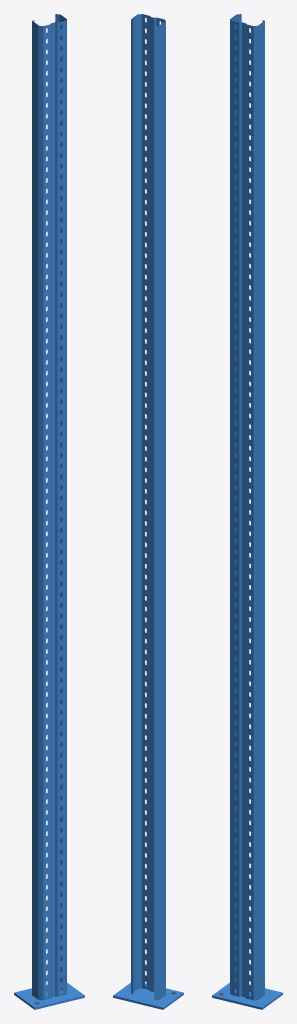
The model's file is shelves-post.glb.
3 renders of one model, left to right at view 1: azimuth 30°, elevation 25°; view 2: azimuth 150°, elevation 25°; view 3: azimuth 330°, elevation 25°, orthographic.
Visible parts, largest first — view 1: post, plate; view 2: post, plate; view 3: post, plate.
Boxes of the visible parts, box(x1,y1,x2,y2) form: post: box(32, 14, 66, 1000); plate: box(14, 982, 84, 1009); post: box(131, 14, 165, 1000); plate: box(113, 982, 183, 1009); post: box(230, 14, 264, 1000); plate: box(212, 982, 282, 1009).
Size of the model in its own units: 0.35 by 6.51 by 0.25.
Materials: 2 (2 with a texture image).
